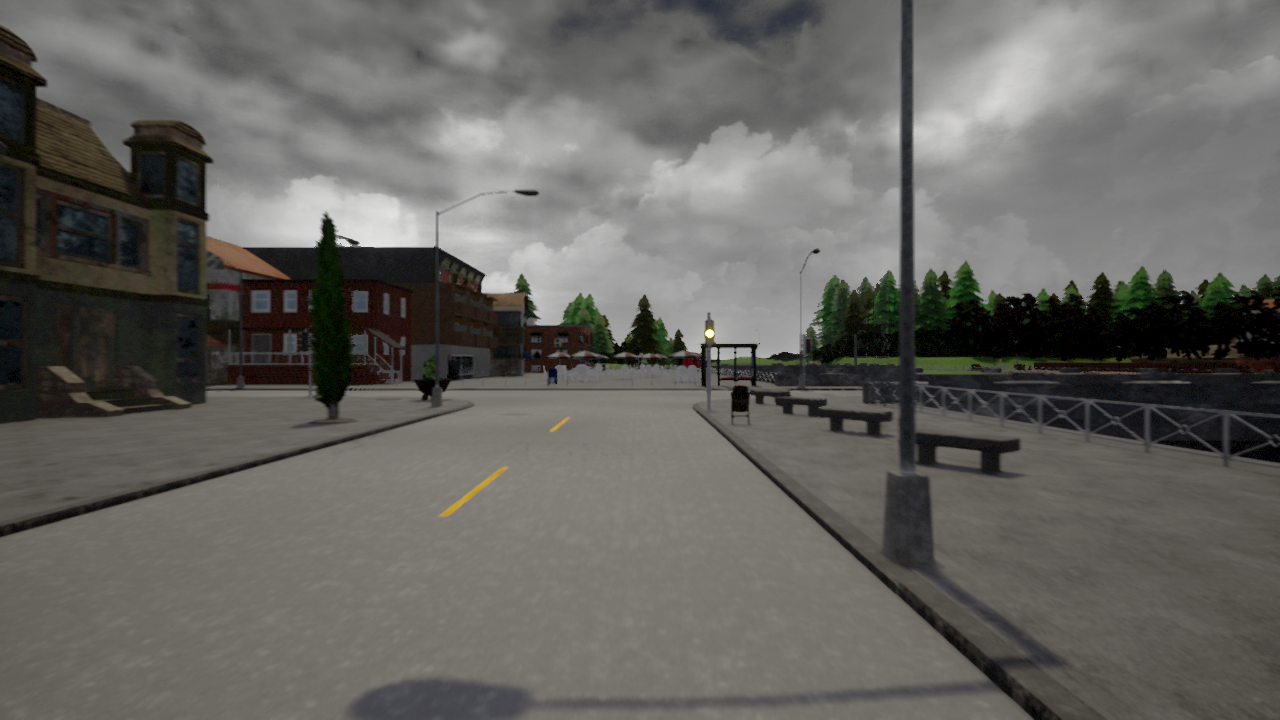yellow: (704, 319, 716, 347)
